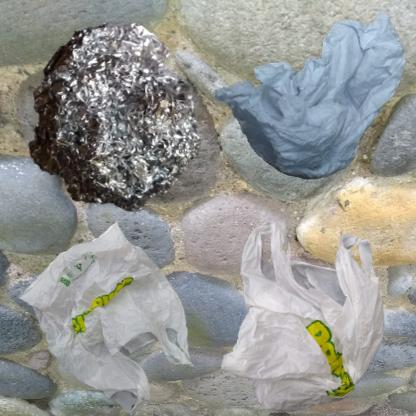aluminio: (10, 10, 215, 233)
bolsa: (213, 213, 410, 416), (10, 213, 205, 416)
papel: (213, 10, 406, 180)
